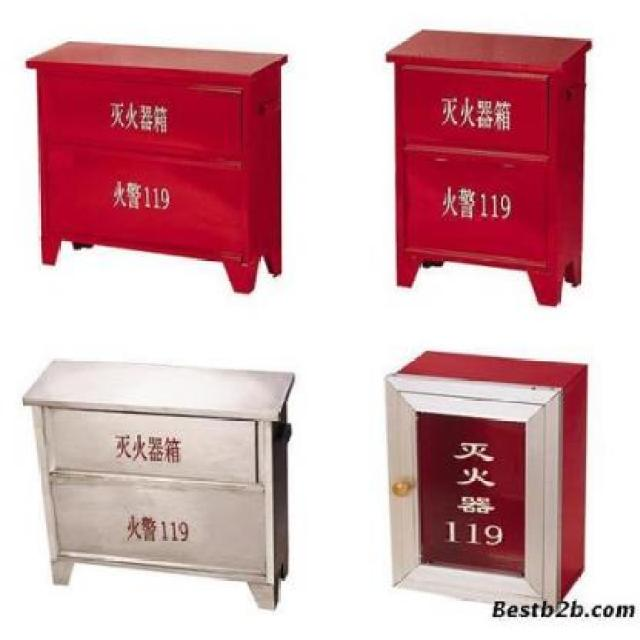firehydrant: (16, 352, 300, 618), (20, 35, 294, 302), (382, 24, 598, 316), (378, 344, 594, 614)
